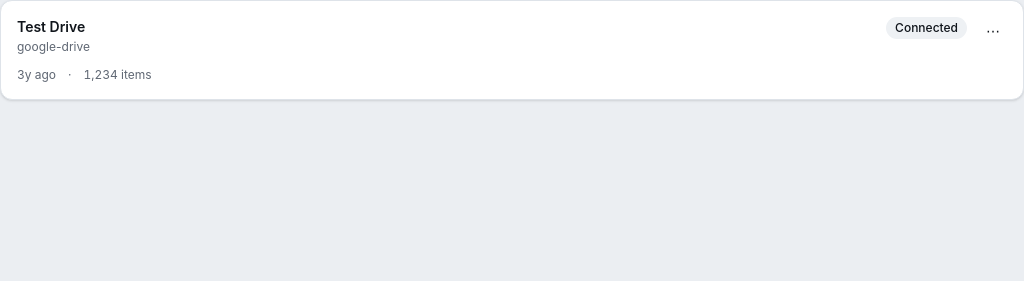
Test case: DatasourceCard — spec scenarios › quick-action menu exposes Explore, Sync now, Pause/Resume, Upload, Settings, Remove in order
The width and height of the screenshot is (1024, 281).
Press the mouse on the button named "quick actions" at (993, 31), box [979,17,1007,45]
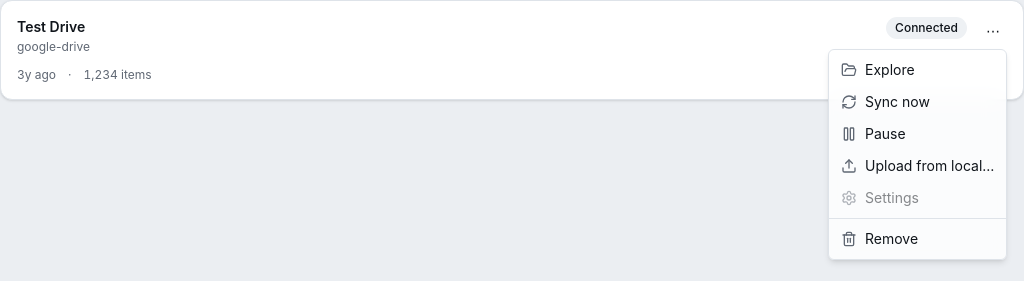
Expected: the menu item "Explore" is shown, [841,61,915,78]
Expected: the menu item "Sync now" is shown, [841,93,930,110]
Expected: the menu item "Pause" is shown, [841,125,906,142]
